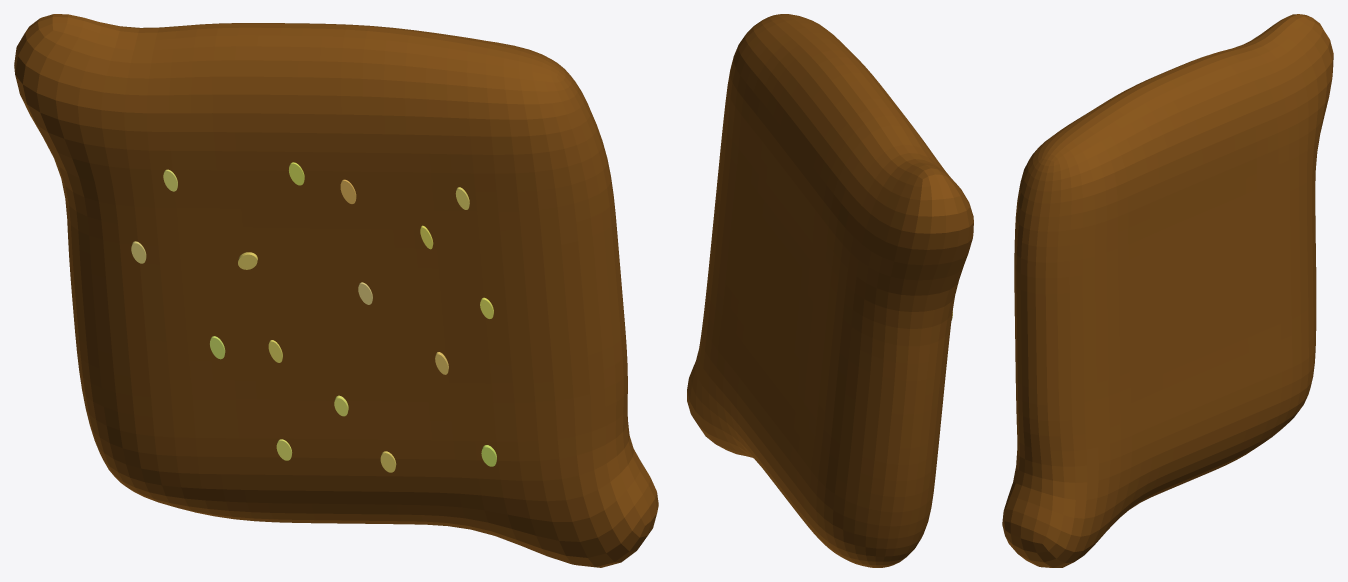
The model's file is cemitagood.glb.
The picture shows the model from 3 angles, left to right: view 1: azimuth 30°, elevation 25°; view 2: azimuth 150°, elevation 25°; view 3: azimuth 270°, elevation 25°; orthographic projection. The views are drawn at different scales.
Parts seen in each view (by area): view 1: Cube; view 2: Cube; view 3: Cube.
Part boxes in pixels (x1,y1,x2,y2): Cube: (14, 14, 658, 567); Cube: (687, 14, 973, 567); Cube: (1002, 14, 1333, 567).
Bounding box in the file's own units: 1.8 × 1.92 × 1.4.
